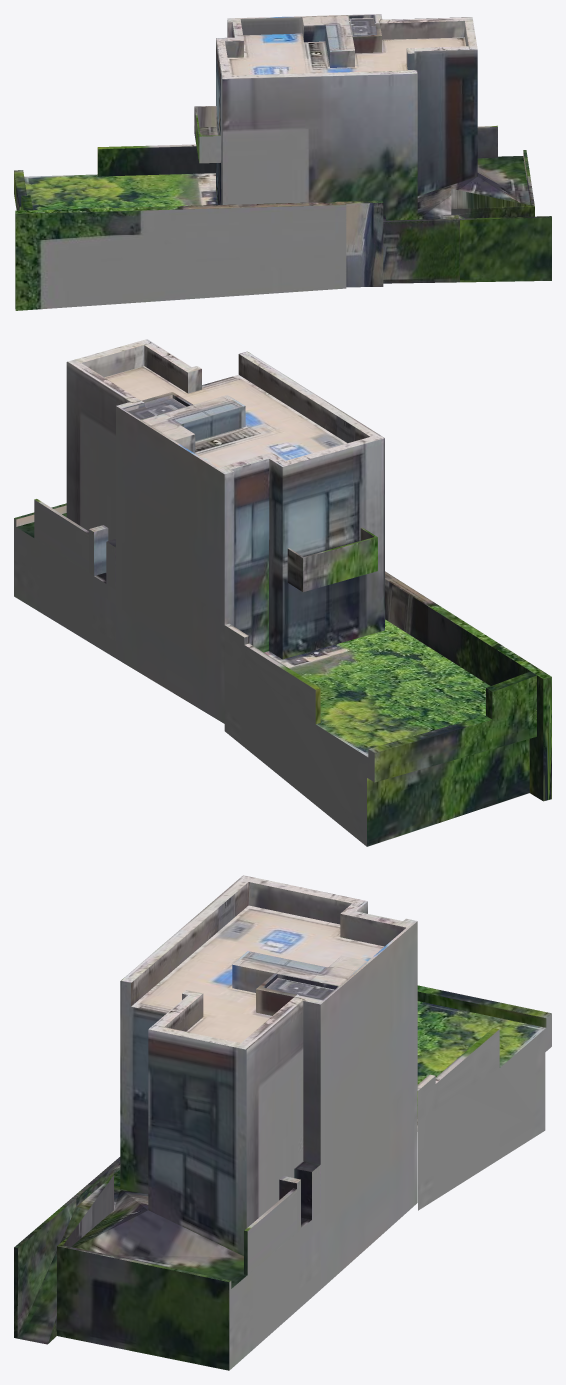
The picture shows the model from 3 angles, top to bottom: view 1: azimuth 30°, elevation 25°; view 2: azimuth 150°, elevation 25°; view 3: azimuth 270°, elevation 25°; orthographic projection. The views are drawn at different scales.
Parts seen in each view (by area): view 1: B287424031701062A0; view 2: B287424031701062A0; view 3: B287424031701062A0.
Boxes of the visible parts, x1,y1,x2,y2 form: B287424031701062A0: [14, 14, 551, 310]; B287424031701062A0: [14, 339, 551, 846]; B287424031701062A0: [14, 875, 551, 1370].
Size of the model in its own units: 29.41 by 13.44 by 20.53.
Materials: 2 (2 with a texture image).
